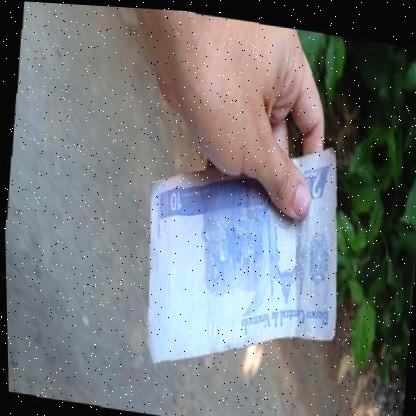ten-back-vef: (134, 117, 350, 385)
